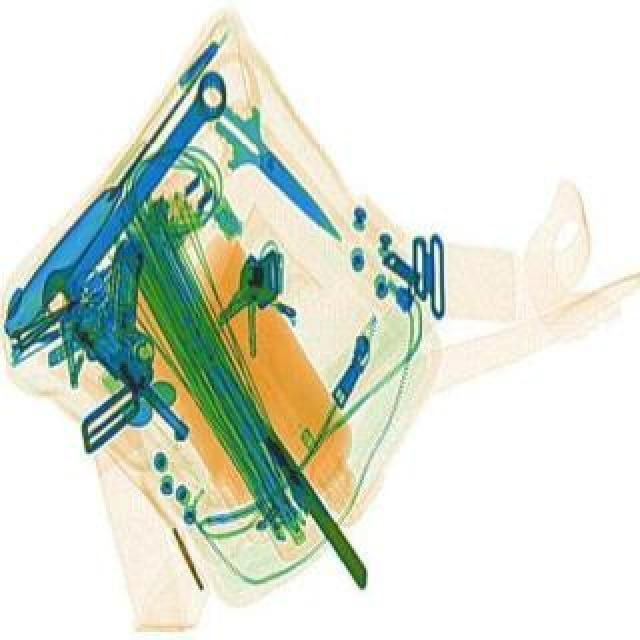gun: (42, 232, 266, 440)
knife: (0, 36, 232, 330), (190, 88, 368, 258)
scissors: (22, 62, 242, 326)
